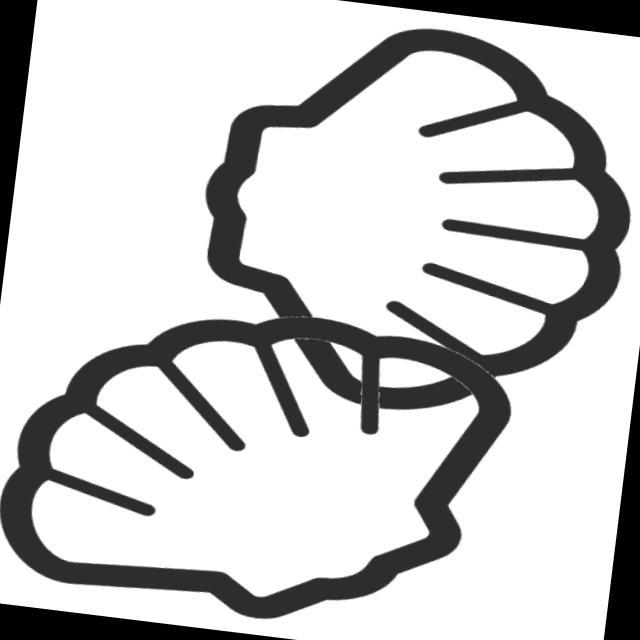shell: (164, 1, 640, 445), (1, 271, 531, 640)
